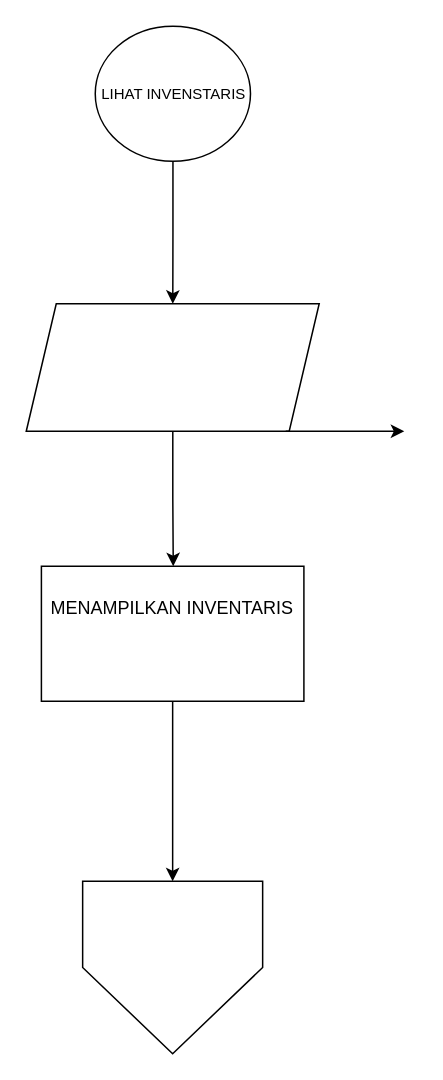
Image size: 443x1080. Some labels were removed from this diagram. Here are the shapes that lost their labels. From the top down, the centre of each, then its label:
At [172,366]: "DAFTAR INVENTARIS TOKO BANGUNAN".
At [172,967]: "MENU ADMIN".
